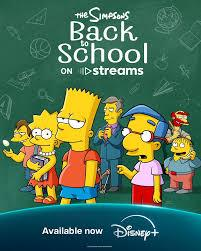Bart: (51, 79, 111, 209)
Lisa: (18, 107, 72, 206)
